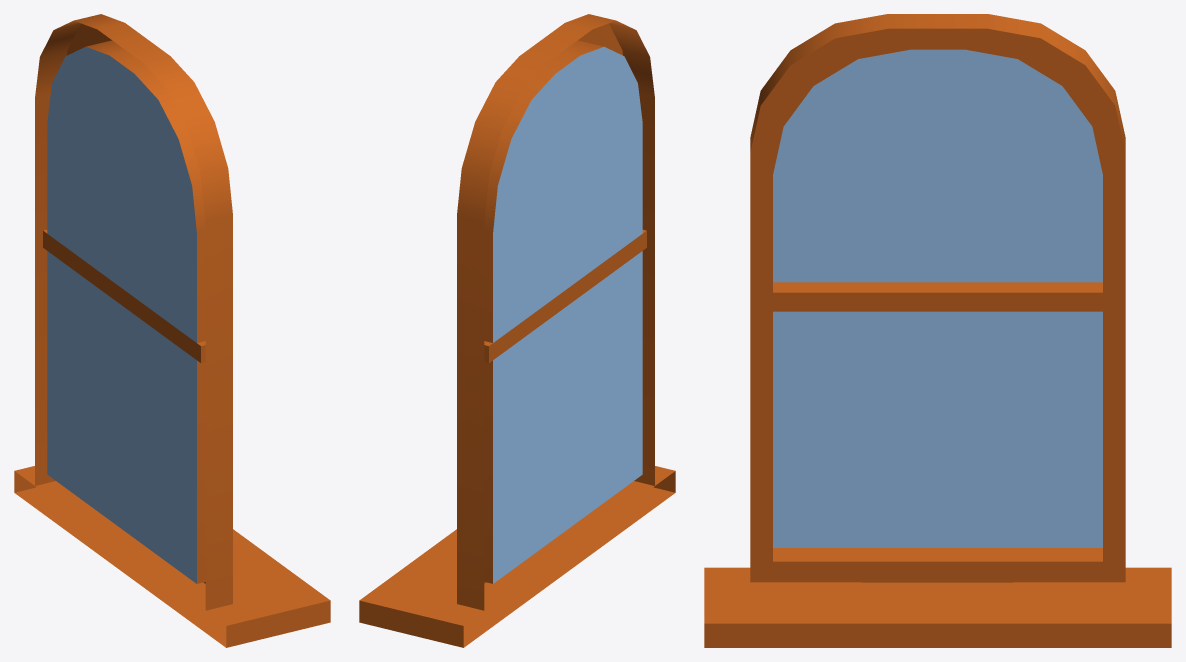
The model's file is P_Window_04.dae.
3 renders of one model, left to right at view 1: azimuth 30°, elevation 25°; view 2: azimuth 150°, elevation 25°; view 3: azimuth 270°, elevation 25°, orthographic. The views are drawn at different scales.
Visible parts, largest first — view 1: Window_04; view 2: Window_04; view 3: Window_04.
Boxes of the visible parts, x1=… form: Window_04: x1=14, y1=14, x2=330, y2=647; Window_04: x1=359, y1=14, x2=675, y2=647; Window_04: x1=704, y1=14, x2=1171, y2=647.
Bounding box in the file's own units: 0.3645 × 1.28 × 1.75.
